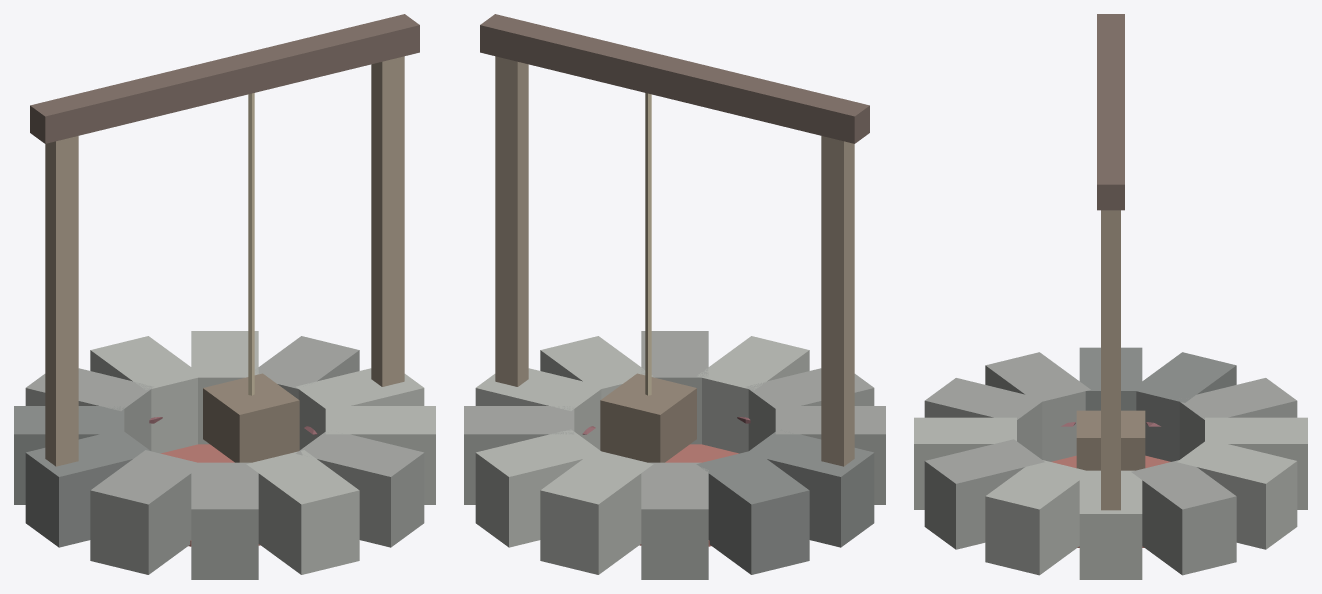
The model's file is blood_well.glb.
3 renders of one model, left to right at view 1: azimuth 30°, elevation 25°; view 2: azimuth 150°, elevation 25°; view 3: azimuth 270°, elevation 25°, orthographic. The views are drawn at different scales.
Visible parts, largest first — view 1: blood_well_material_01, blood_well_material_00, blood_well_material_04, blood_well_material_05, blood_well_material_02, blood_well_material_07, blood_well_material_06, blood_well_material_03; view 2: blood_well_material_00, blood_well_material_01, blood_well_material_04, blood_well_material_02, blood_well_material_05, blood_well_material_07, blood_well_material_06, blood_well_material_03; view 3: blood_well_material_01, blood_well_material_00, blood_well_material_02, blood_well_material_04, blood_well_material_05, blood_well_material_07.
Boxes of the visible parts, <box> form: blood_well_material_01: <box>25,336,424,579</box>; blood_well_material_00: <box>90,331,435,574</box>; blood_well_material_04: <box>45,56,404,466</box>; blood_well_material_05: <box>30,14,419,143</box>; blood_well_material_02: <box>14,406,150,547</box>; blood_well_material_07: <box>203,373,299,462</box>; blood_well_material_06: <box>248,93,254,395</box>; blood_well_material_03: <box>161,444,260,546</box>; blood_well_material_00: <box>475,336,809,574</box>; blood_well_material_01: <box>464,331,885,579</box>; blood_well_material_04: <box>495,56,854,466</box>; blood_well_material_02: <box>696,432,874,574</box>; blood_well_material_05: <box>480,14,869,143</box>; blood_well_material_07: <box>600,373,696,462</box>; blood_well_material_06: <box>645,93,651,395</box>; blood_well_material_03: <box>639,444,738,546</box>; blood_well_material_01: <box>924,352,1297,575</box>; blood_well_material_00: <box>914,417,1307,579</box>; blood_well_material_02: <box>1079,347,1236,461</box>; blood_well_material_04: <box>1101,210,1120,510</box>; blood_well_material_05: <box>1097,14,1124,210</box>; blood_well_material_07: <box>1076,410,1145,470</box>.
Bounding box in the file's own units: 2 × 2.18 × 1.95.
